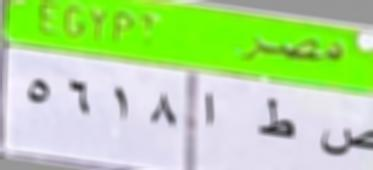1: (107, 82, 132, 125)
5: (20, 77, 54, 112)
6: (66, 77, 93, 121)
8: (149, 86, 178, 134)
Taa: (259, 96, 298, 145)
alif: (198, 89, 223, 130)
saad: (320, 111, 373, 161)
